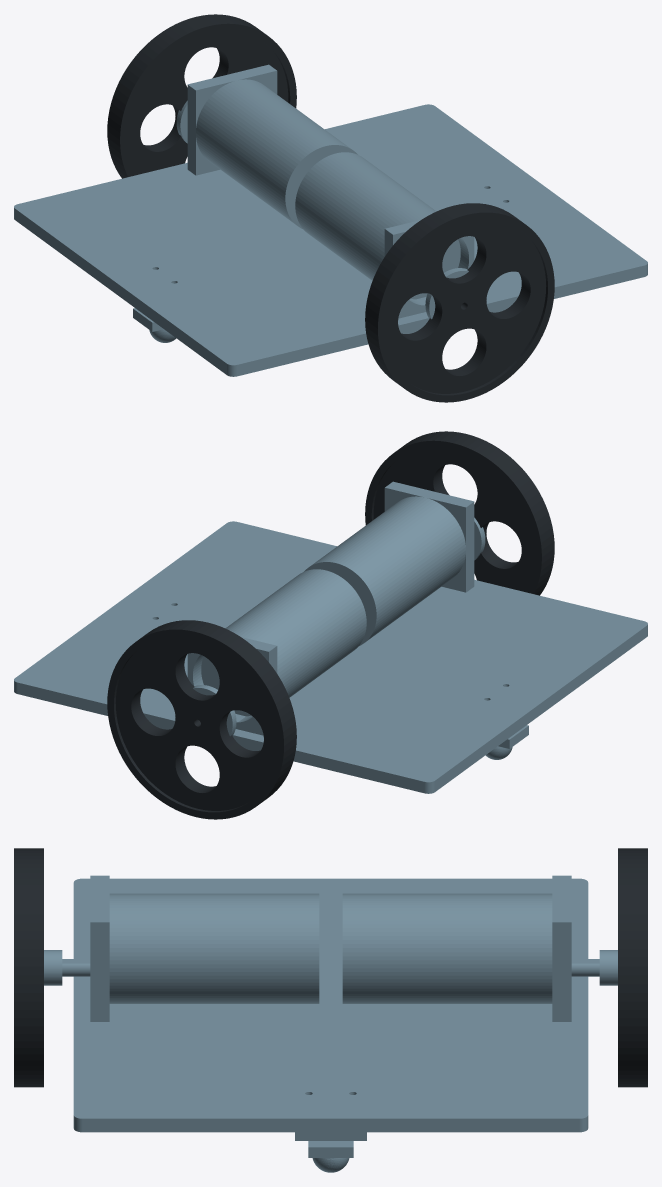
File: assembly.glb
3 renders of one model, top to bottom at view 1: azimuth 30°, elevation 25°; view 2: azimuth 150°, elevation 25°; view 3: azimuth 270°, elevation 25°, orthographic. The views are drawn at different scales.
Visible parts, largest first — view 1: deck, left-wheel-rim, right-motor-housing, left-motor-housing, left-wheel-tire, right-wheel-rim, right-wheel-tire, right-bracket-body, left-bracket-body; view 2: deck, right-wheel-rim, left-motor-housing, right-motor-housing, right-wheel-tire, left-wheel-rim, left-wheel-tire, left-bracket-body, right-bracket-body; view 3: deck, left-motor-housing, right-motor-housing, left-wheel-tire, right-wheel-tire, left-bracket-body, right-bracket-body, caster-0.075-body, left-hub, right-hub, riser-0.075, left-motor-shaft (+1 smaller).
Part boxes in pixels (box(x1,y1,x2,y2)): deck: box(14, 104, 647, 376); left-wheel-rim: box(384, 219, 546, 393); right-motor-housing: box(196, 79, 357, 229); left-motor-housing: box(295, 152, 460, 299); left-wheel-tire: box(365, 203, 554, 402); right-wheel-rim: box(126, 31, 288, 175); right-wheel-tire: box(107, 14, 296, 178); right-bracket-body: box(187, 64, 277, 175); left-bracket-body: box(384, 220, 474, 318); deck: box(14, 521, 647, 793); right-wheel-rim: box(115, 636, 277, 810); left-motor-housing: box(304, 496, 465, 646); right-motor-housing: box(201, 569, 366, 716); right-wheel-tire: box(107, 620, 296, 819); left-wheel-rim: box(373, 448, 535, 592); left-wheel-tire: box(365, 431, 554, 595); left-bracket-body: box(384, 481, 474, 592); right-bracket-body: box(187, 637, 277, 735); deck: box(73, 878, 588, 1132); left-motor-housing: box(109, 893, 319, 1003); right-motor-housing: box(342, 893, 552, 1003); left-wheel-tire: box(14, 848, 43, 1087); right-wheel-tire: box(618, 848, 647, 1087); left-bracket-body: box(90, 875, 109, 1021); right-bracket-body: box(552, 875, 571, 1021); caster-0.075-body: box(308, 1141, 353, 1157); left-hub: box(44, 950, 62, 985); right-hub: box(599, 950, 617, 985); riser-0.075: box(295, 1132, 366, 1140); left-motor-shaft: box(62, 959, 90, 976).
Bounding box in the file's own units: 0.19 × 0.08 × 0.212.
